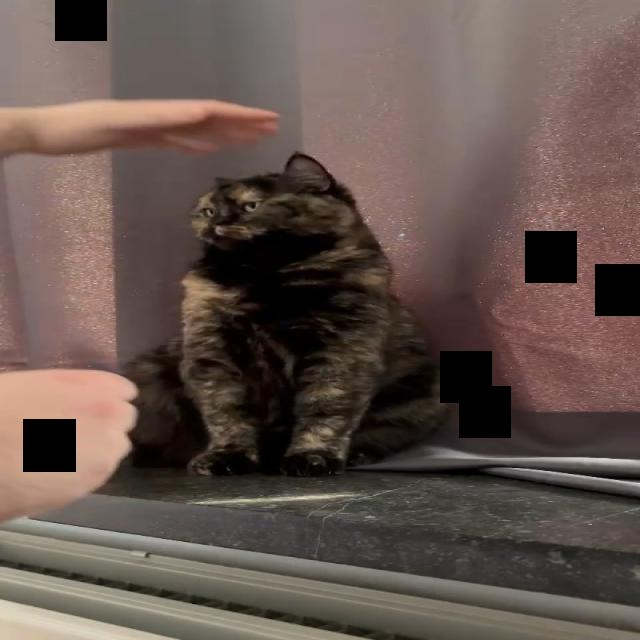authorized: (120, 150, 451, 477)
